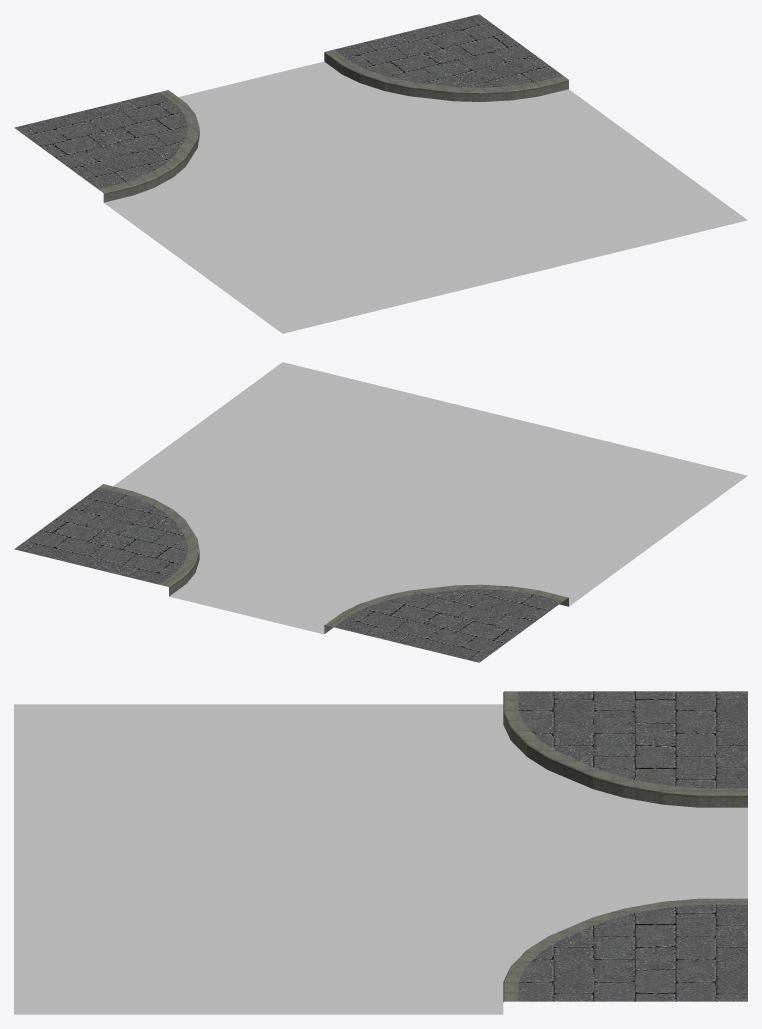
The model's file is CT_Road_Lane_Entry_01.fbx.
The picture shows the model from 3 angles, top to bottom: view 1: azimuth 30°, elevation 25°; view 2: azimuth 150°, elevation 25°; view 3: azimuth 270°, elevation 25°; orthographic projection. The views are drawn at different scales.
Visible parts, largest first — view 1: CT_Road_Lane_Entry_01; view 2: CT_Road_Lane_Entry_01; view 3: CT_Road_Lane_Entry_01.
Boxes of the visible parts, x1,y1,x2,y2 form: CT_Road_Lane_Entry_01: (14,14,747,333); CT_Road_Lane_Entry_01: (14,362,747,662); CT_Road_Lane_Entry_01: (14,691,747,1014).
Size of the model in its own units: 768 by 15 by 768.
